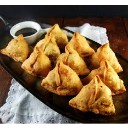samosa: (69, 75, 116, 115), (43, 61, 83, 96), (83, 60, 125, 92), (20, 46, 52, 77), (60, 46, 90, 74), (94, 43, 123, 71), (2, 33, 29, 60), (35, 32, 60, 58), (68, 33, 94, 55), (46, 23, 68, 45)
